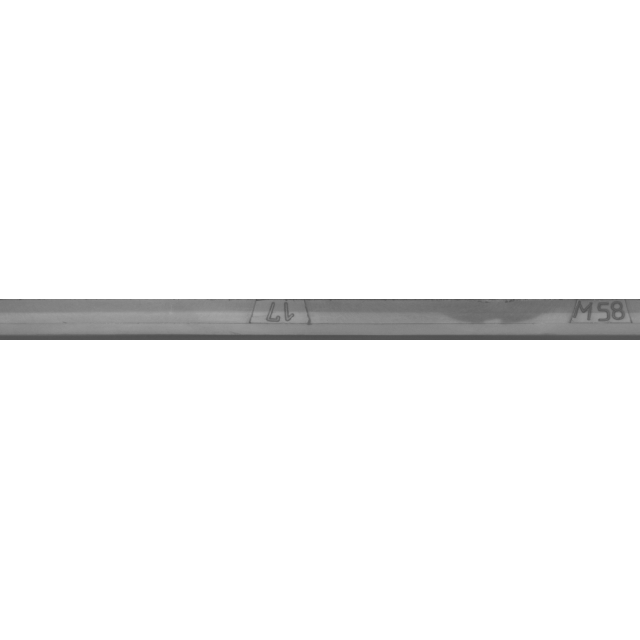mohao: (519, 270, 640, 370)
xuehao: (180, 270, 380, 370)
